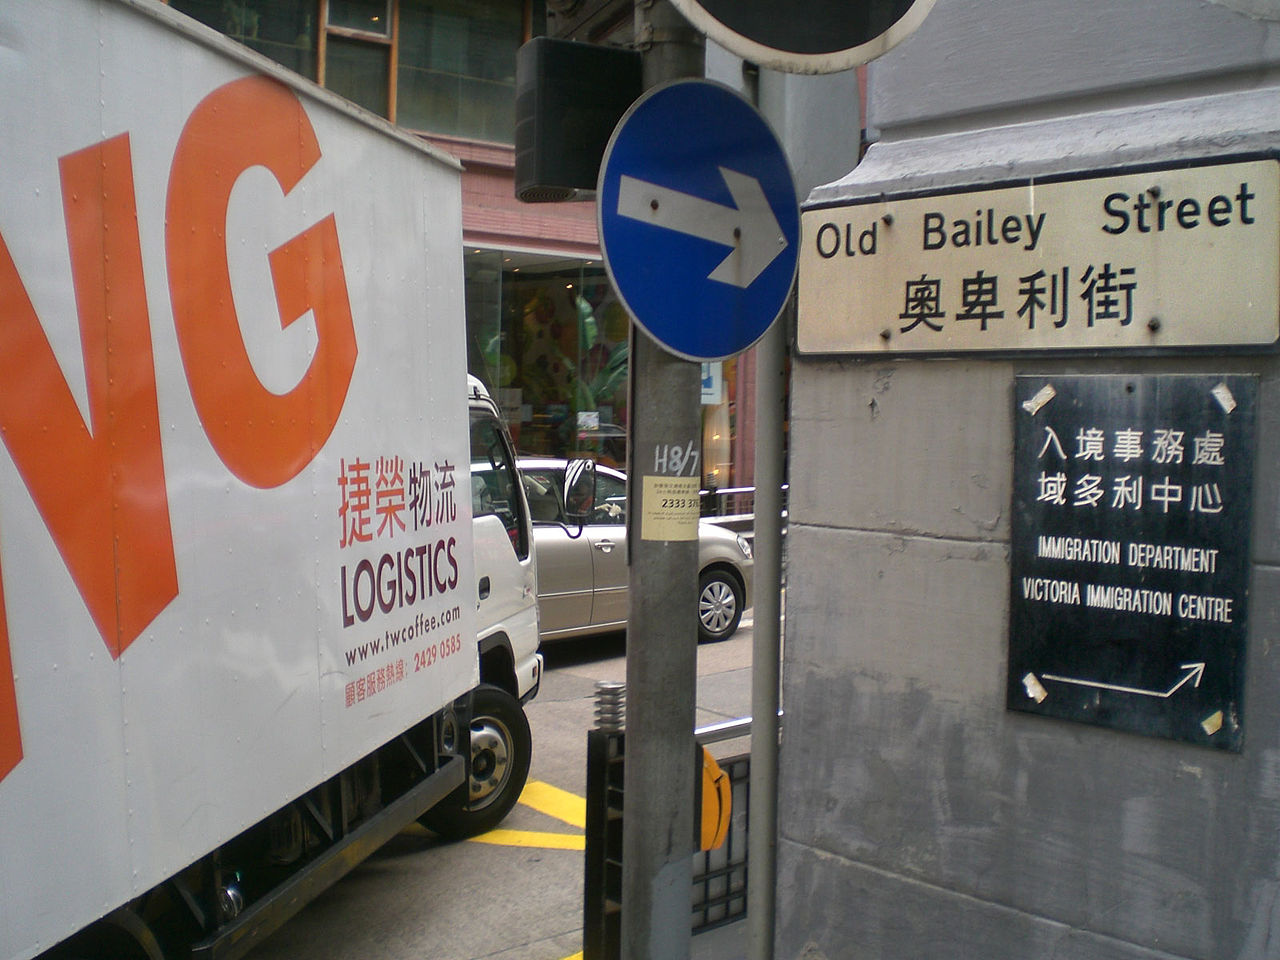Turn Right: (592, 77, 802, 358)
